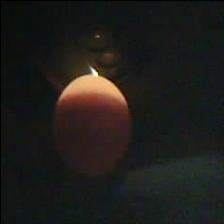fertile: (50, 71, 136, 181)
